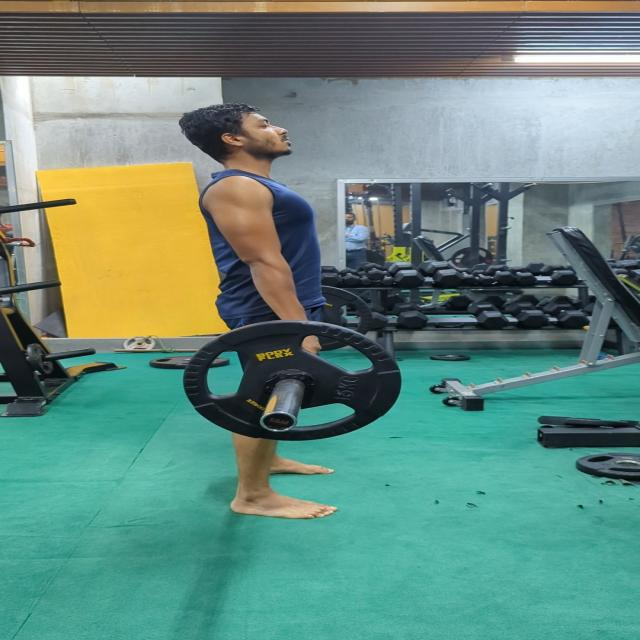Normal_Deadlifts: (175, 104, 354, 521)
